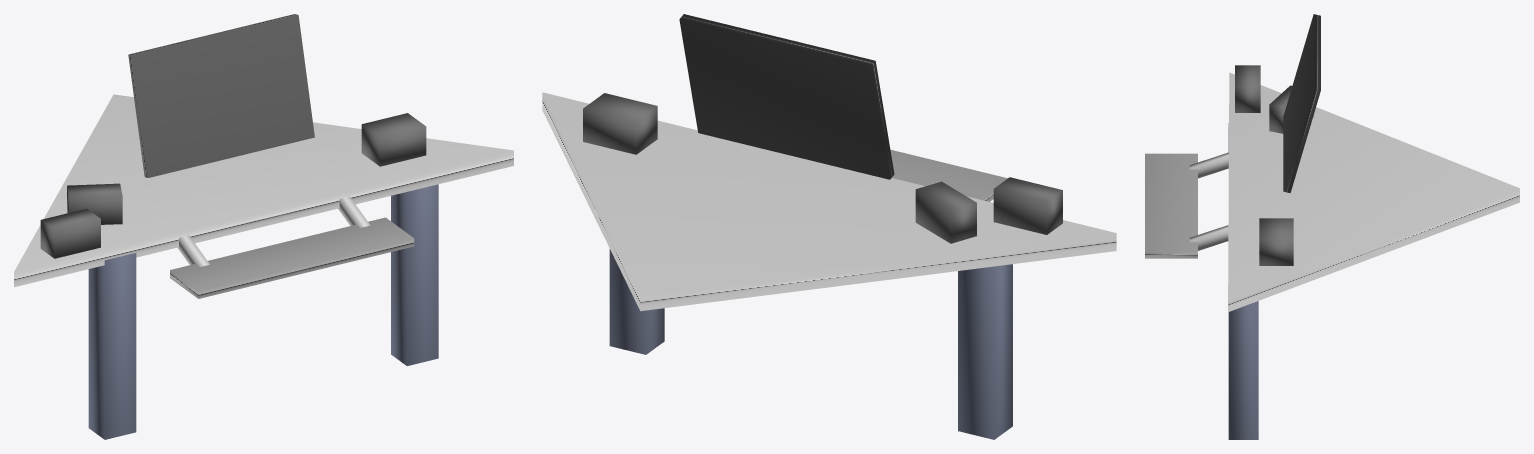
Rendered from PC table.fbx.
3 renders of one model, left to right at view 1: azimuth 30°, elevation 25°; view 2: azimuth 150°, elevation 25°; view 3: azimuth 270°, elevation 25°, orthographic. The views are drawn at different scales.
Visible parts, largest first — view 1: PM3D_Plane3D169_027; view 2: PM3D_Plane3D169_027; view 3: PM3D_Plane3D169_027.
Boxes of the visible parts, x1,y1,x2,y2 form: PM3D_Plane3D169_027: (14,14,513,439); PM3D_Plane3D169_027: (542,14,1116,439); PM3D_Plane3D169_027: (1145,14,1519,439).
Size of the model in its own units: 257 by 164 by 181.
